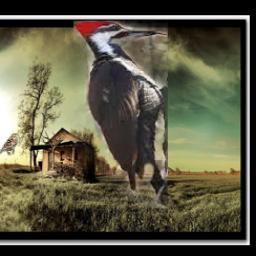Sparrow: (0, 134, 18, 156)
Woodpecker: (73, 22, 168, 209)
